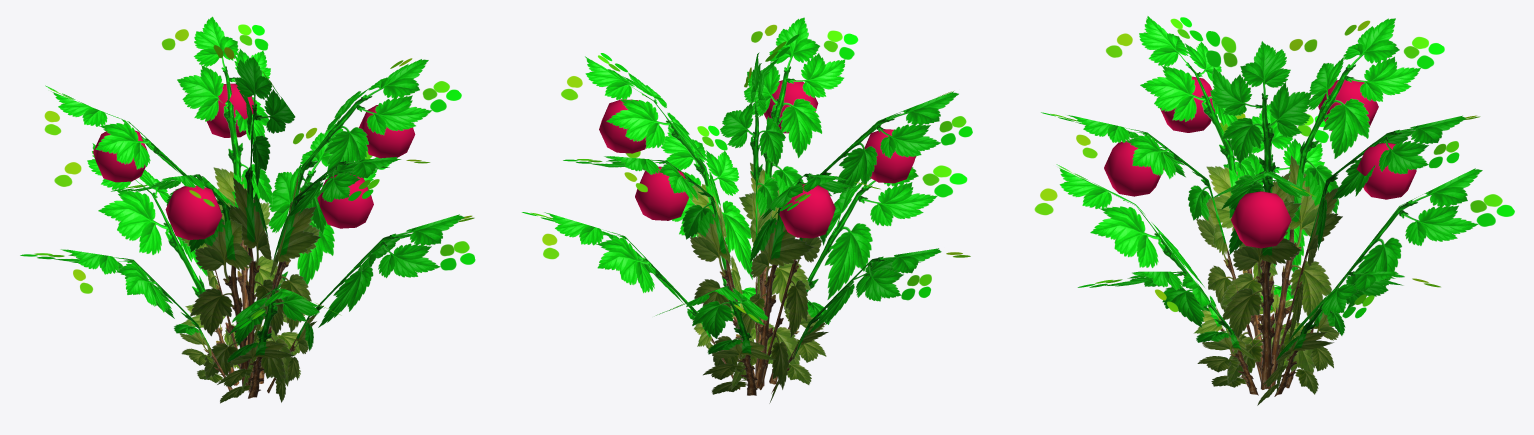
File: berries.glb
3 renders of one model, left to right at view 1: azimuth 30°, elevation 25°; view 2: azimuth 150°, elevation 25°; view 3: azimuth 270°, elevation 25°, orthographic. The views are drawn at different scales.
Visible parts, largest first — view 1: Cube.001, Cube, Cube.010, Cube.009, Cube.003, Cube.006, Cube.004, Cube.008, Cube.007, Cube.005, Cube.002, Berry.003 (+4 smaller); view 2: Cube.004, Cube.008, Cube.003, Cube, Cube.002, Cube.001, Cube.009, Cube.010, Cube.006, Cube.007, Cube.005, Berry.004 (+4 smaller); view 3: Cube.002, Cube.010, Cube.003, Cube.006, Cube.001, Cube, Cube.004, Cube.008, Cube.009, Cube.005, Cube.007, Berry.001 (+4 smaller).
Boxes of the visible parts, left/top/right/bottom form: Cube.001: left=161, top=16, right=283, bottom=345; Cube: left=259, top=58, right=461, bottom=386; Cube.010: left=213, top=45, right=295, bottom=383; Cube.009: left=267, top=214, right=475, bottom=402; Cube.003: left=111, top=174, right=252, bottom=389; Cube.006: left=54, top=143, right=239, bottom=385; Cube.004: left=240, top=157, right=430, bottom=394; Cube.008: left=217, top=287, right=341, bottom=403; Cube.007: left=20, top=249, right=232, bottom=391; Cube.005: left=254, top=123, right=389, bottom=383; Cube.002: left=44, top=85, right=248, bottom=390; Berry.003: left=165, top=185, right=222, bottom=239; Cube.004: left=739, top=17, right=858, bottom=387; Cube.008: left=769, top=156, right=967, bottom=384; Cube.003: left=758, top=90, right=972, bottom=390; Cube: left=561, top=53, right=755, bottom=376; Cube.002: left=731, top=173, right=880, bottom=389; Cube.001: left=563, top=156, right=757, bottom=388; Cube.009: left=626, top=123, right=774, bottom=381; Cube.010: left=720, top=34, right=799, bottom=369; Cube.006: left=656, top=285, right=775, bottom=395; Cube.007: left=769, top=248, right=970, bottom=403; Cube.005: left=521, top=212, right=740, bottom=389; Berry.004: left=779, top=184, right=835, bottom=238; Cube.002: left=1271, top=18, right=1444, bottom=387; Cube.010: left=1206, top=31, right=1317, bottom=382; Cube.003: left=1106, top=16, right=1281, bottom=368; Cube.006: left=1286, top=168, right=1514, bottom=394; Cube.001: left=1268, top=115, right=1480, bottom=393; Cube: left=1207, top=169, right=1316, bottom=389; Cube.004: left=1041, top=112, right=1266, bottom=389; Cube.008: left=1034, top=164, right=1248, bottom=386; Cube.009: left=1077, top=271, right=1258, bottom=395; Cube.005: left=1257, top=271, right=1440, bottom=405; Cube.007: left=1220, top=103, right=1328, bottom=369; Berry.001: left=1231, top=191, right=1291, bottom=248.
Bounding box in the file's own units: 1.58 × 1.27 × 1.65.
Materials: 2 (1 with a texture image).
